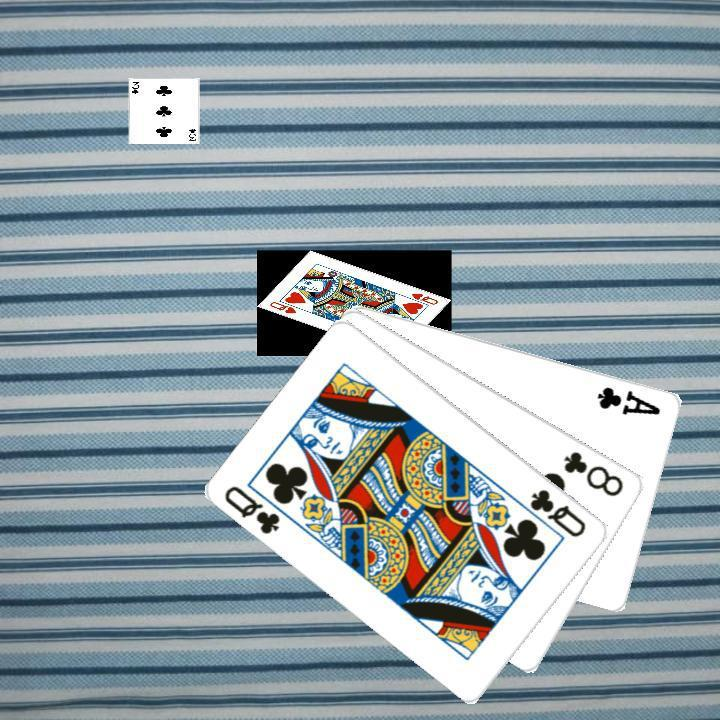8: (560, 446, 626, 499)
A: (593, 381, 663, 417)
Q: (525, 484, 589, 540), (220, 481, 283, 537)
